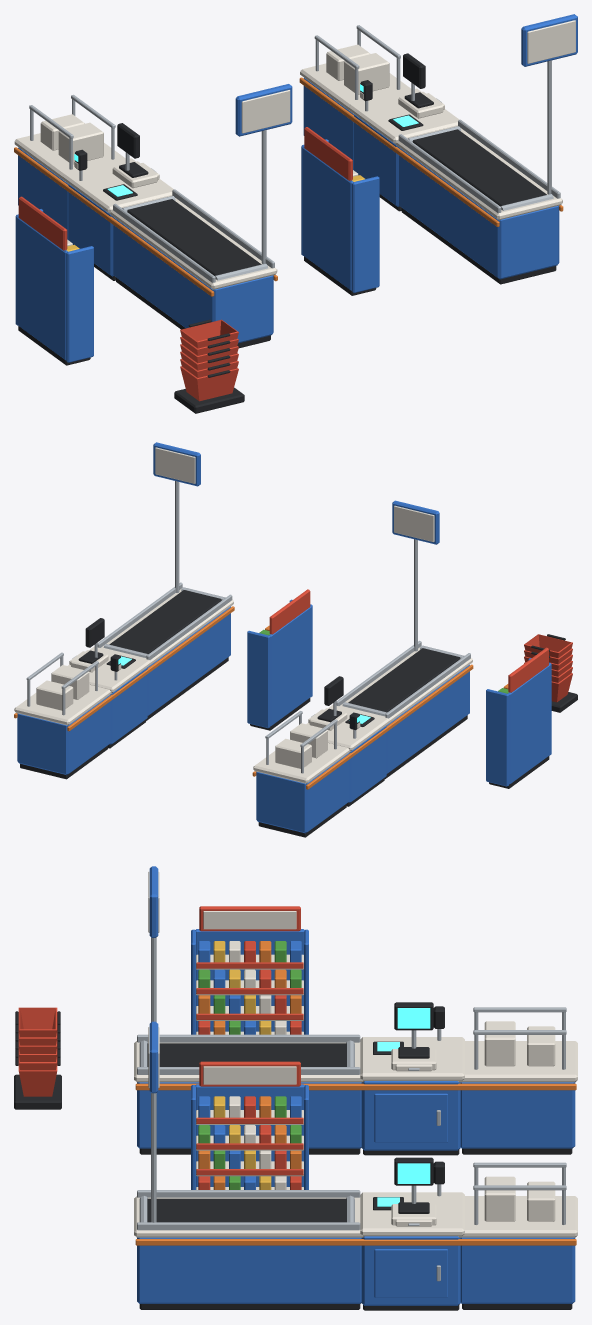
The model's file is supermarket-checkout-set.glb.
3 views of the same model, one above another, from view 1: azimuth 30°, elevation 25°; view 2: azimuth 150°, elevation 25°; view 3: azimuth 270°, elevation 25° (orthographic). The views are drawn at different scales.
Visible parts, largest first — view 1: CheckoutLane_B, CheckoutLane_A, SweetsRack_A, SweetsRack_B, BasketStack, ConveyorBelt_A, ConveyorBelt_B; view 2: CheckoutLane_B, CheckoutLane_A, SweetsRack_B, SweetsRack_A, ConveyorBelt_A, ConveyorBelt_B, BasketStack; view 3: CheckoutLane_B, CheckoutLane_A, SweetsRack_A, SweetsRack_B, ConveyorBelt_B, BasketStack, ConveyorBelt_A, CabinetDoor_A, CabinetDoor_B.
Boxes of the visible parts, x1=… form: CheckoutLane_B: x1=299, y1=14, x2=577, y2=284; CheckoutLane_A: x1=14, y1=84, x2=292, y2=348; SweetsRack_A: x1=15, y1=196, x2=93, y2=365; SweetsRack_B: x1=301, y1=127, x2=379, y2=295; BasketStack: x1=174, y1=319, x2=244, y2=413; ConveyorBelt_A: x1=127, y1=199, x2=261, y2=275; ConveyorBelt_B: x1=412, y1=129, x2=546, y2=206; CheckoutLane_B: x1=14, y1=442, x2=234, y2=779; CheckoutLane_A: x1=252, y1=500, x2=473, y2=837; SweetsRack_B: x1=247, y1=589, x2=312, y2=730; SweetsRack_A: x1=486, y1=647, x2=551, y2=788; ConveyorBelt_A: x1=348, y1=648, x2=460, y2=712; ConveyorBelt_B: x1=109, y1=590, x2=221, y2=653; BasketStack: x1=524, y1=634, x2=577, y2=712; CheckoutLane_B: x1=134, y1=1021, x2=577, y2=1310; CheckoutLane_A: x1=134, y1=866, x2=577, y2=1155; SweetsRack_A: x1=191, y1=906, x2=308, y2=1034; SweetsRack_B: x1=191, y1=1061, x2=308, y2=1189; ConveyorBelt_B: x1=147, y1=1198, x2=346, y2=1222; BasketStack: x1=14, y1=1007, x2=61, y2=1109; ConveyorBelt_A: x1=147, y1=1043, x2=346, y2=1066; CabinetDoor_A: x1=374, y1=1093, x2=447, y2=1142; CabinetDoor_B: x1=374, y1=1249, x2=447, y2=1297.
Bounding box in the file's own units: 22.45 × 10.7 × 19.95.
